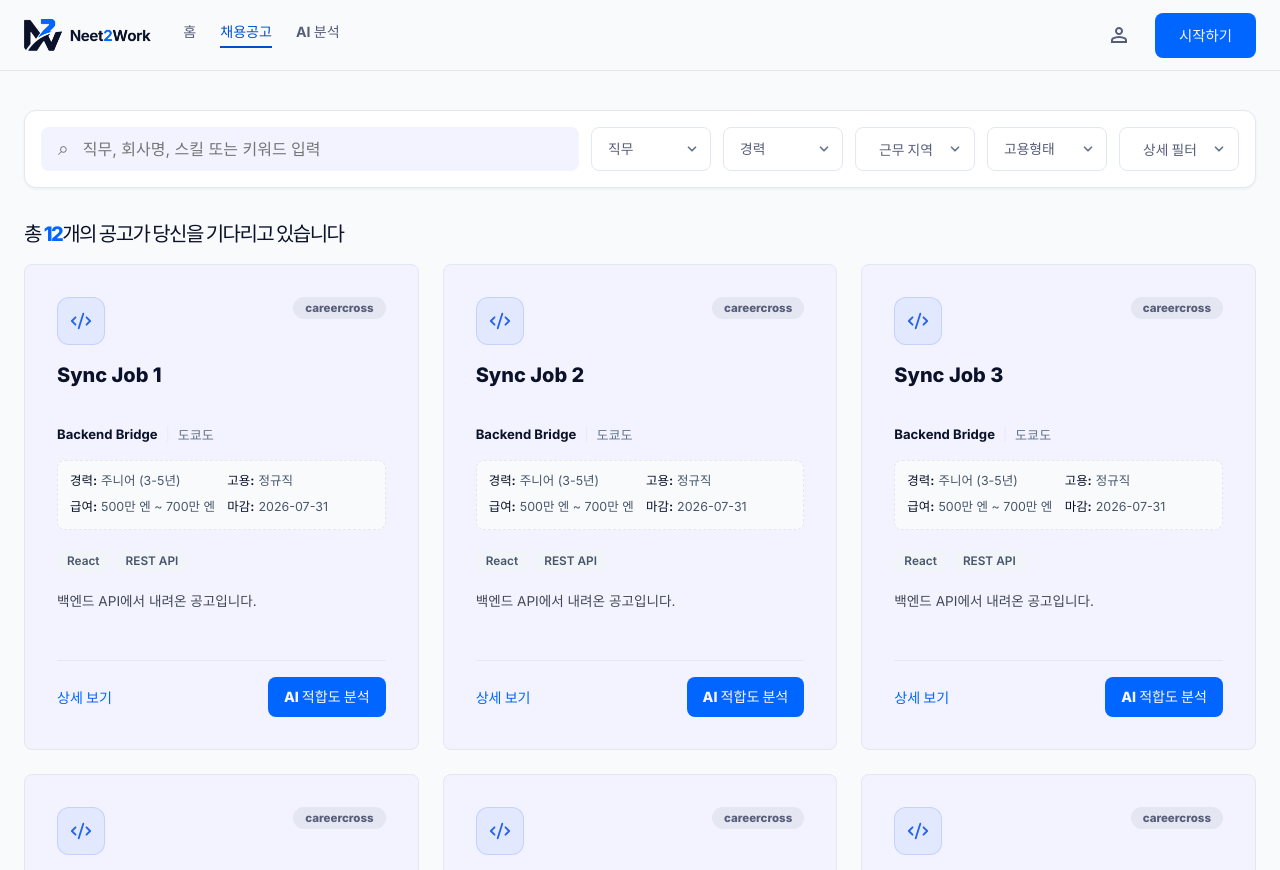
Test case: Jobs page backend integration › syncs the current filter and page state into the URL
The image size is (1280, 870).
Expected: the heading "Sync Job 1" is shown, [57,363,162,387]
Type "재택" into the search field with placeholder "직무, 회사명, 스킬 또는 키워드 입력".
click(321, 149); type("재택")  # box [81,138,562,160]
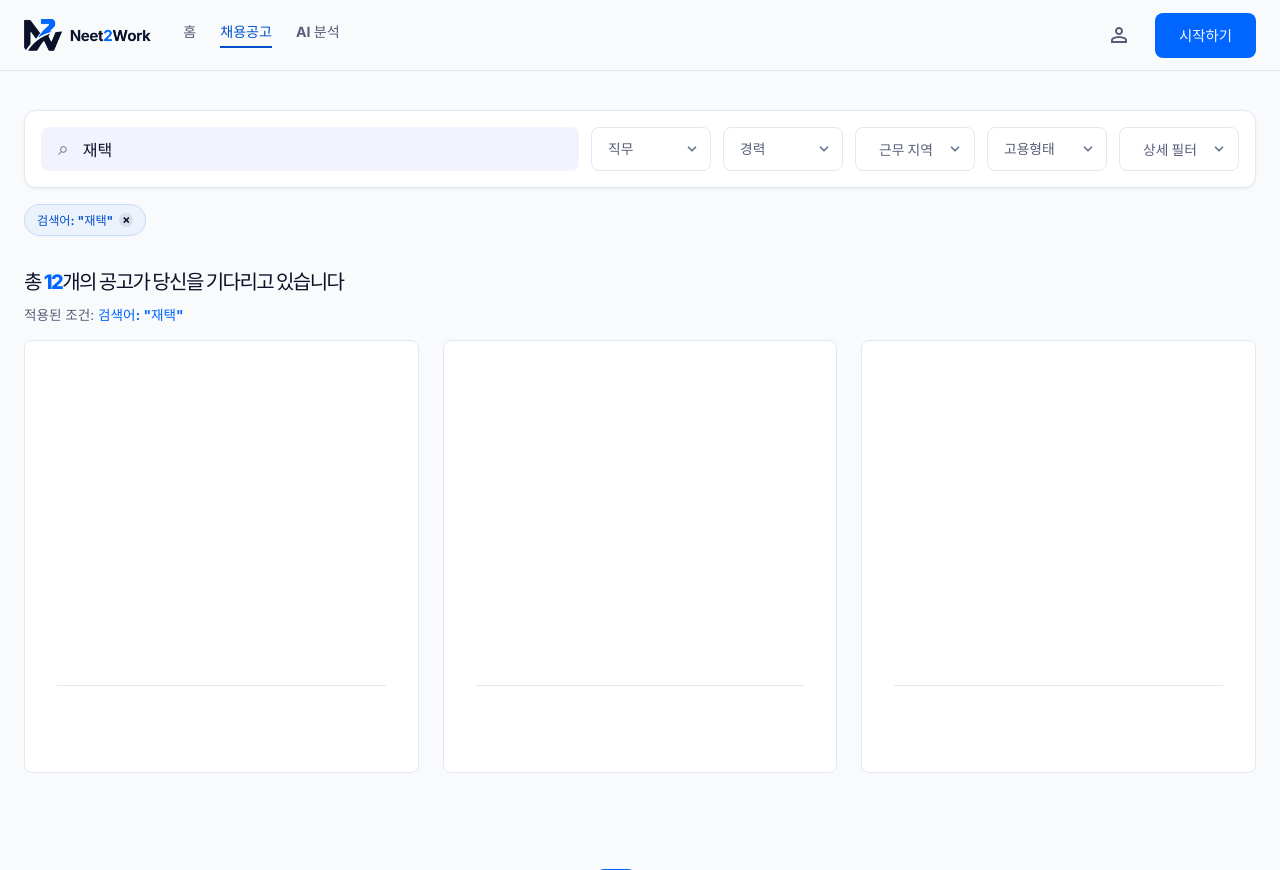
Select "미기재" in the 3rd dropdown named "고용형태" at (1047, 149), box [987,127,1107,171]
(page scrolled)
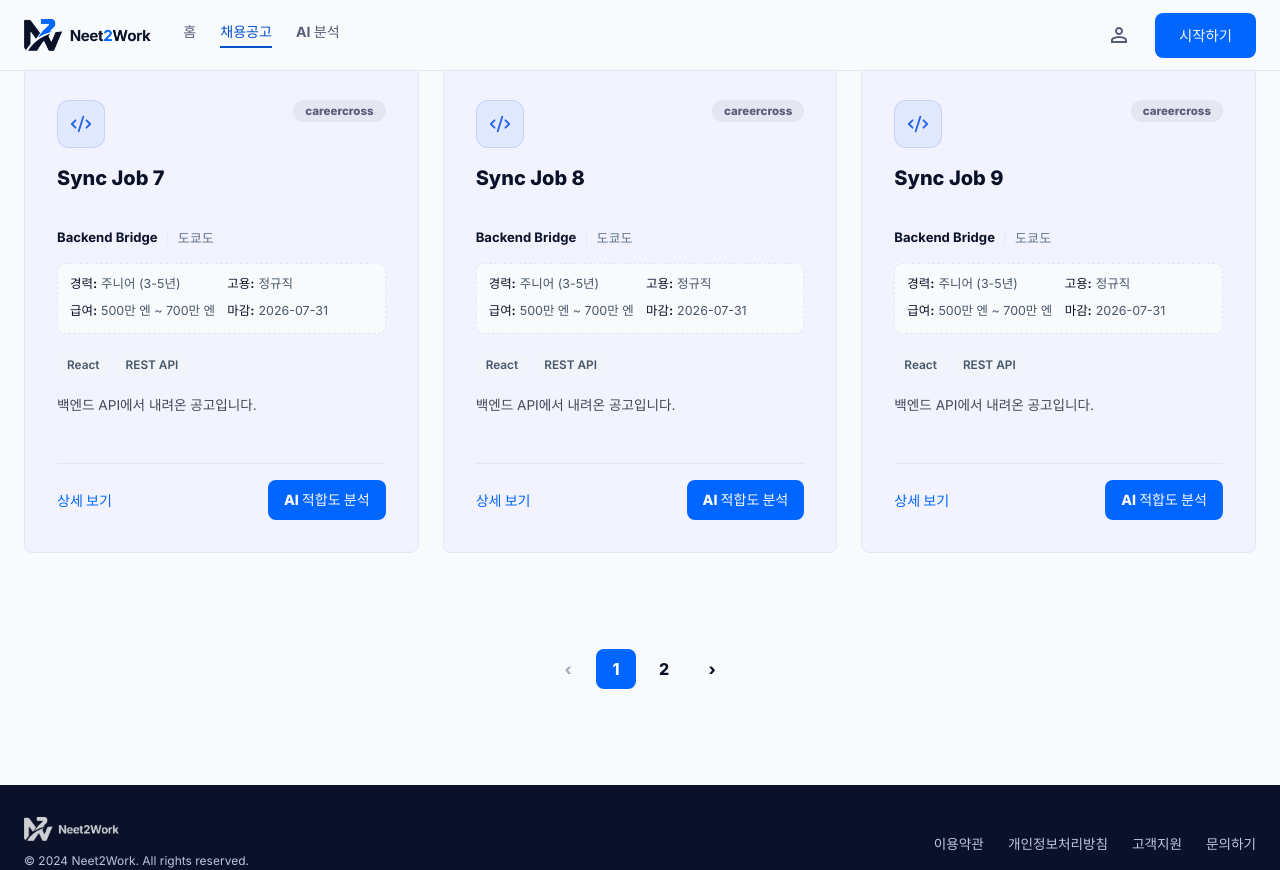
Click the button named "다음 페이지".
click(712, 669)  # box [692,649,732,689]
(page scrolled)
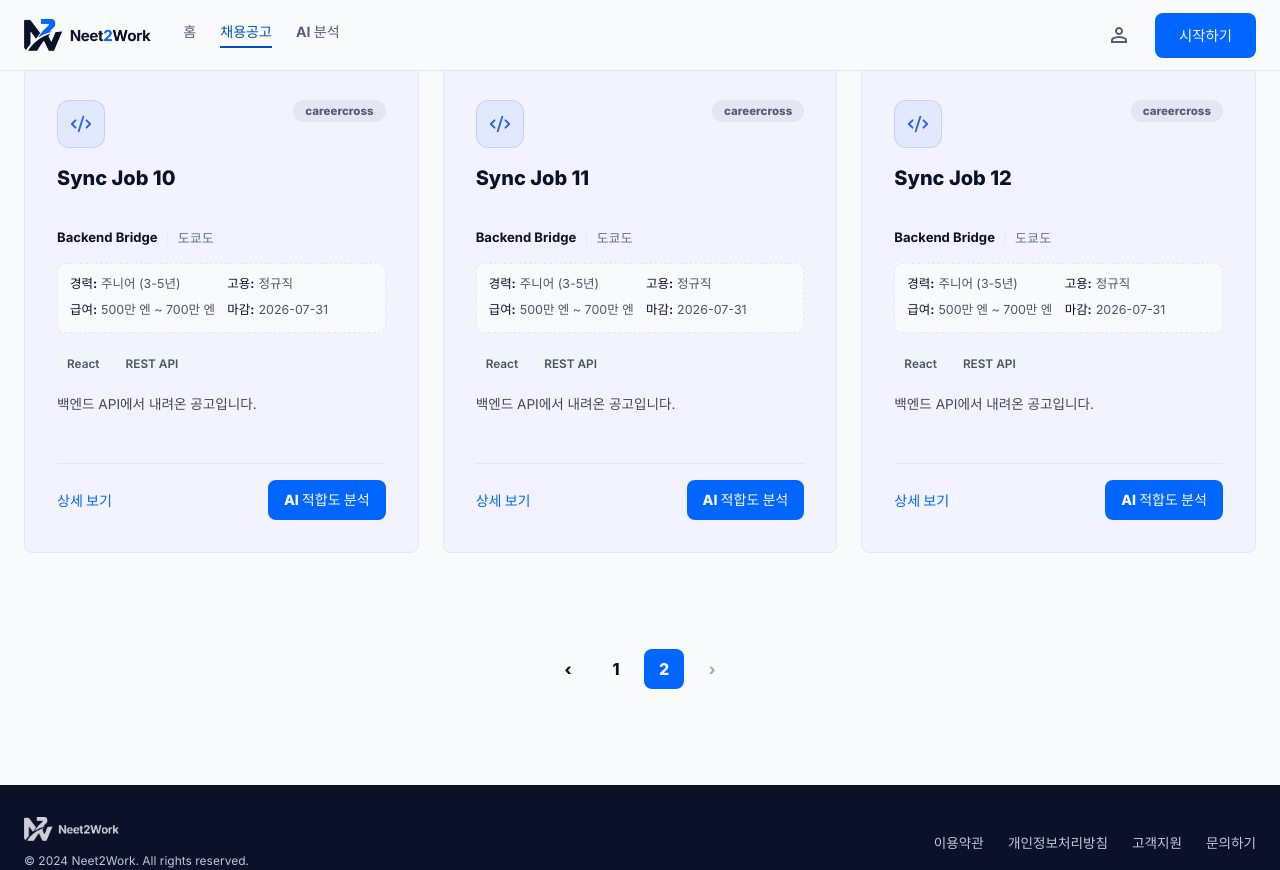
Result: the heading "Sync Job 10" is shown at [57,166,176,190]
